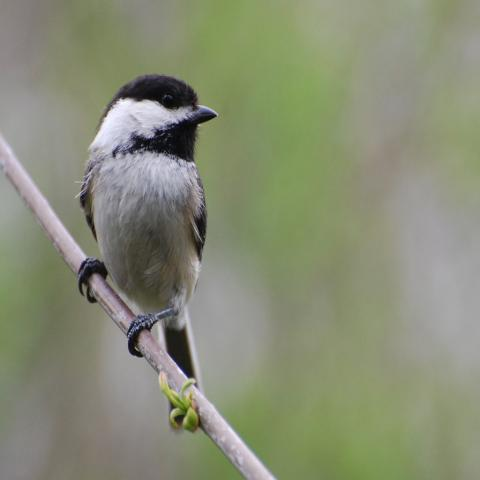bird: (74, 70, 220, 407)
